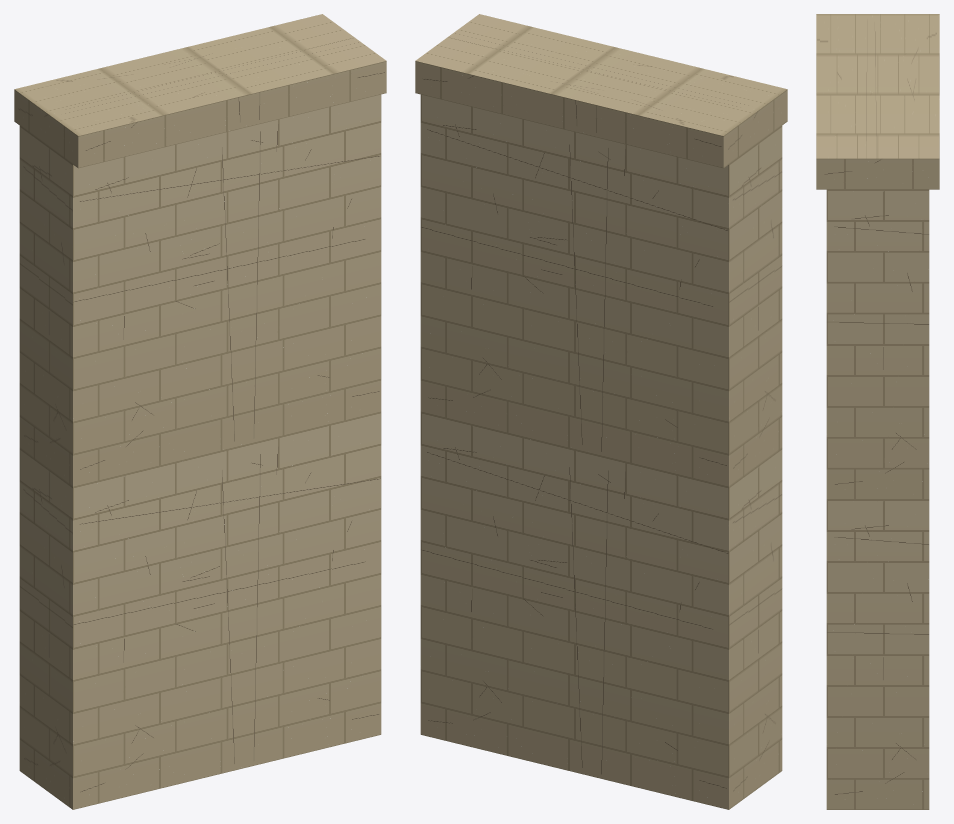
Rendered from wall_straight_1m.obj.
3 views of the same model, side by side, from view 1: azimuth 30°, elevation 25°; view 2: azimuth 150°, elevation 25°; view 3: azimuth 270°, elevation 25° (orthographic). The views are drawn at different scales.
Visible parts, largest first — view 1: wall_straight_1m; view 2: wall_straight_1m; view 3: wall_straight_1m.
Boxes of the visible parts, <box> form: wall_straight_1m: <box>14,14,386,809</box>; wall_straight_1m: <box>415,14,787,809</box>; wall_straight_1m: <box>816,14,939,809</box>.
Size of the model in its own units: 1 by 2.1 by 0.36.
1 material, 1 textured.
